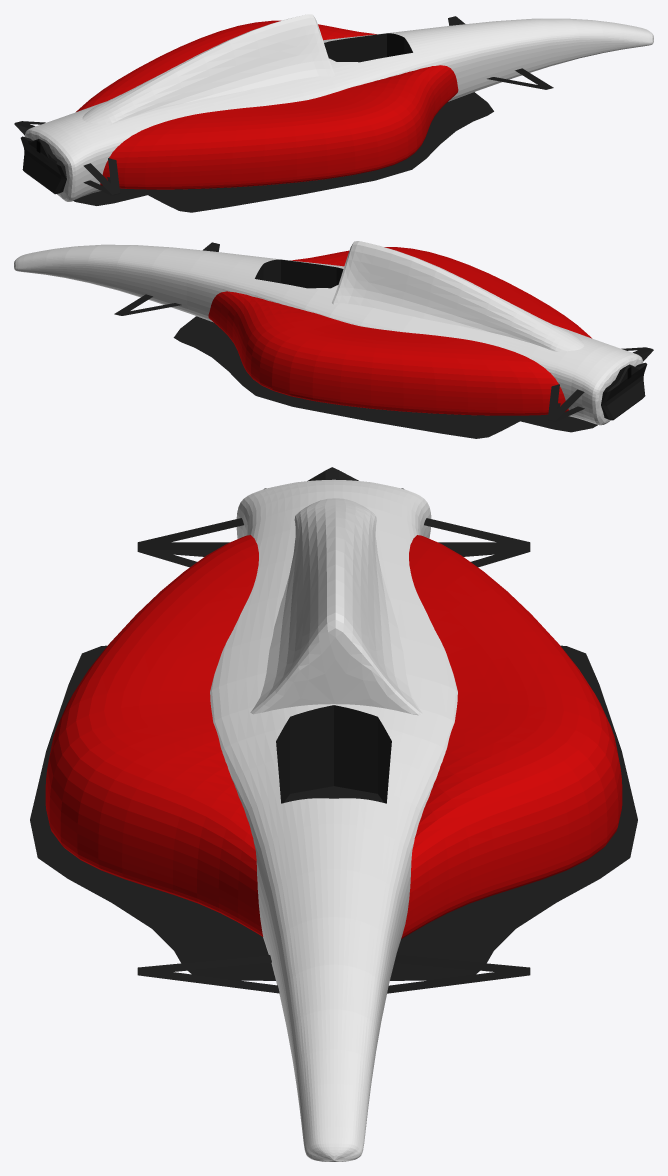
The model's file is body.obj.
The picture shows the model from 3 angles, top to bottom: view 1: azimuth 30°, elevation 25°; view 2: azimuth 150°, elevation 25°; view 3: azimuth 270°, elevation 25°; orthographic projection. The views are drawn at different scales.
Visible parts, largest first — view 1: Side.001_Circle.001, Chasis_Cone, Top_Cone.001, Floor_Plane.017, Side.002_Circle.003, Cube.001, Suspension_Plane.005; view 2: Side.002_Circle.003, Chasis_Cone, Top_Cone.001, Floor_Plane.017, Side.001_Circle.001, Cube.001, Suspension_Plane.005; view 3: Chasis_Cone, Side.002_Circle.003, Side.001_Circle.001, Floor_Plane.017, Top_Cone.001, Suspension_Plane.005.
Boxes of the visible parts, x1,y1,x2,y2 form: Side.001_Circle.001: [100, 65, 458, 189]; Chasis_Cone: [24, 18, 653, 201]; Top_Cone.001: [82, 14, 334, 124]; Floor_Plane.017: [73, 92, 493, 212]; Side.002_Circle.003: [76, 20, 376, 111]; Cube.001: [20, 136, 66, 194]; Suspension_Plane.005: [14, 16, 553, 195]; Side.002_Circle.003: [208, 291, 568, 415]; Chasis_Cone: [14, 244, 642, 425]; Top_Cone.001: [332, 241, 584, 351]; Floor_Plane.017: [173, 316, 597, 438]; Side.001_Circle.001: [290, 247, 591, 338]; Cube.001: [601, 362, 647, 420]; Suspension_Plane.005: [114, 242, 653, 421]; Chasis_Cone: [210, 479, 457, 1161]; Side.002_Circle.003: [401, 535, 622, 938]; Side.001_Circle.001: [45, 535, 263, 936]; Floor_Plane.017: [30, 645, 637, 980]; Top_Cone.001: [250, 498, 422, 715]; Suspension_Plane.005: [137, 518, 530, 993].
Bounding box in the file's own units: 1.99 × 0.3464 × 0.8545.
